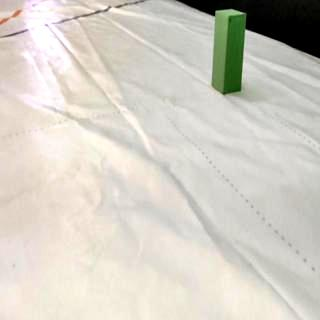greenbox: (212, 8, 246, 94)
